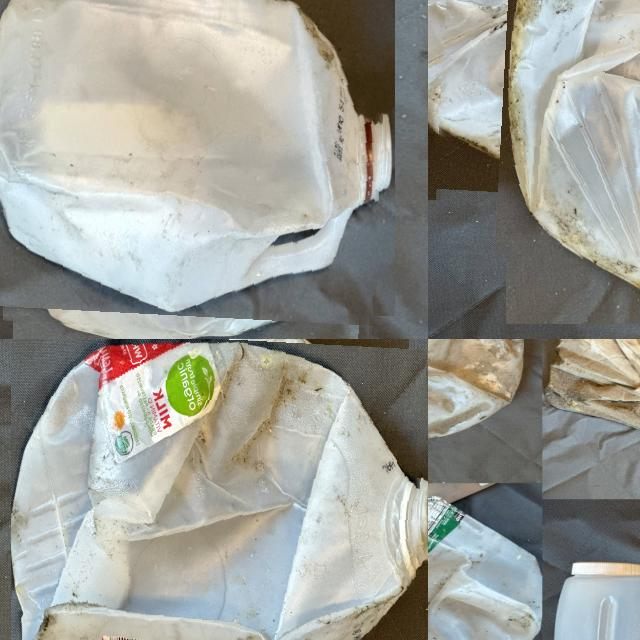milk-jug: (0, 0, 387, 333), (24, 339, 423, 640), (439, 0, 640, 266), (428, 496, 537, 640), (428, 339, 530, 452), (549, 339, 640, 430)
